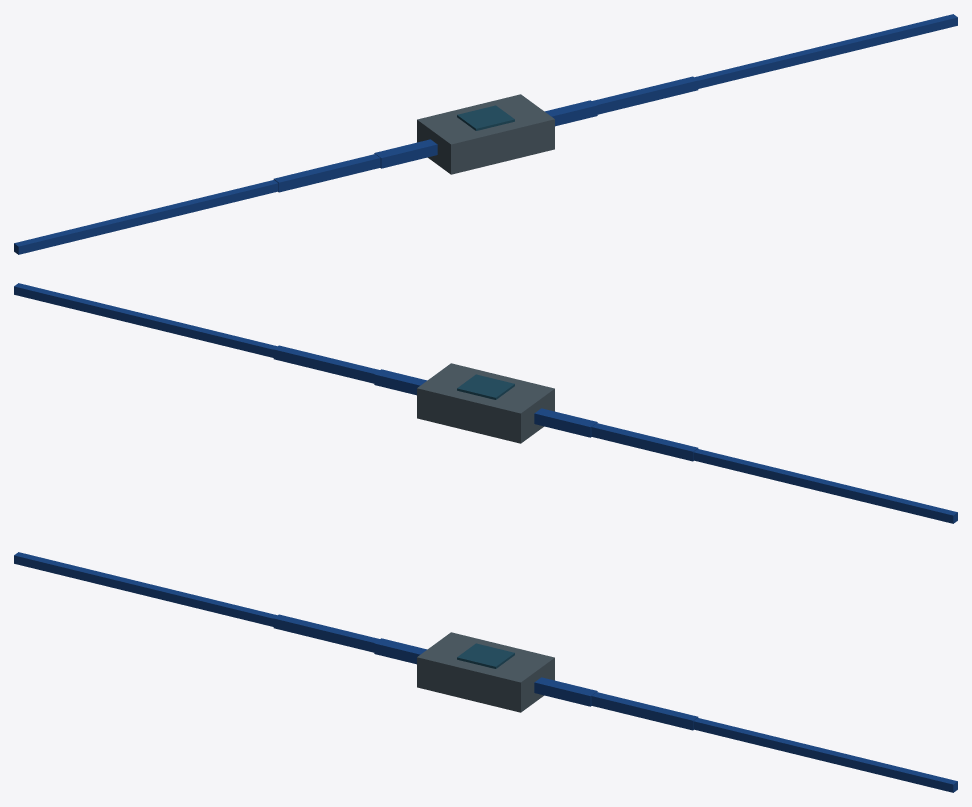
The model's file is sts_conley_legacy_body.dae.
3 views of the same model, one above another, from view 1: azimuth 30°, elevation 25°; view 2: azimuth 150°, elevation 25°; view 3: azimuth 330°, elevation 25° (orthographic).
Visible parts, largest first — view 1: boom_lower_left, machine_house, portal_leg_left_land, top_girder_left, operator_cabin; view 2: boom_lower_left, machine_house, portal_leg_left_land, top_girder_left, operator_cabin; view 3: boom_lower_left, machine_house, portal_leg_left_land, top_girder_left, operator_cabin.
Part boxes in pixels (left/top/right/bottom): boom_lower_left: left=14, top=14, right=957, bottom=254; machine_house: left=417, top=94, right=554, bottom=174; portal_leg_left_land: left=273, top=76, right=698, bottom=192; top_girder_left: left=374, top=100, right=597, bottom=168; operator_cabin: left=457, top=105, right=514, bottom=130; boom_lower_left: left=14, top=283, right=957, bottom=523; machine_house: left=417, top=363, right=554, bottom=443; portal_leg_left_land: left=273, top=345, right=698, bottom=461; top_girder_left: left=374, top=369, right=597, bottom=437; operator_cabin: left=457, top=374, right=514, bottom=399; boom_lower_left: left=14, top=552, right=957, bottom=792; machine_house: left=417, top=632, right=554, bottom=712; portal_leg_left_land: left=273, top=614, right=698, bottom=730; top_girder_left: left=374, top=638, right=597, bottom=706; operator_cabin: left=457, top=643, right=514, bottom=668.
Bounding box in the file's own units: 65.12 × 4.1 × 2.3.
